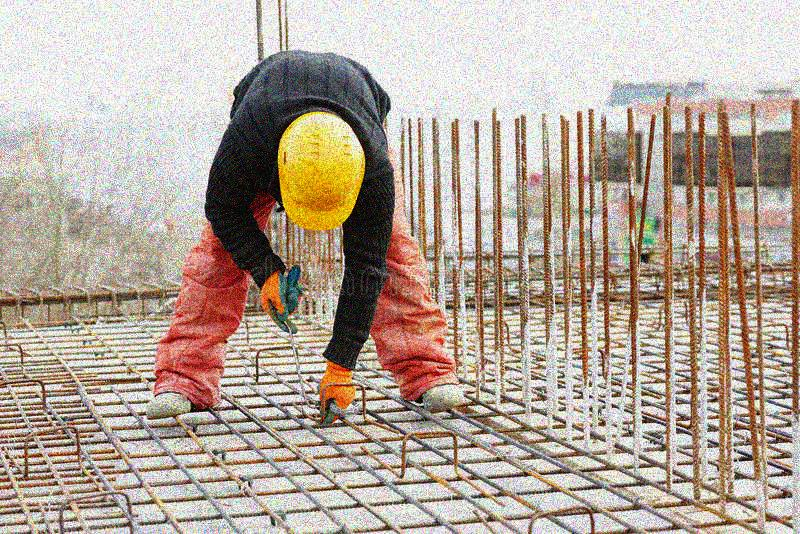helmet: (277, 109, 367, 234)
